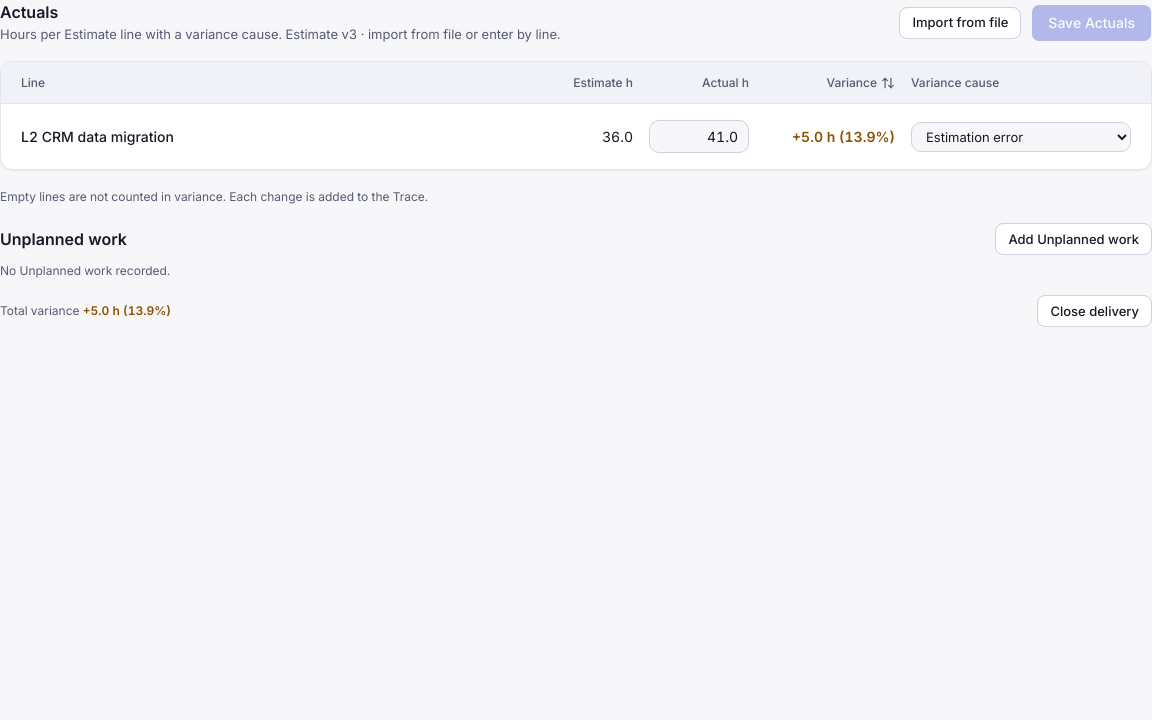
Test: ActualsSection › Close delivery once every line has a final Actual
Click the button "Close delivery": (1095,311) [1037,295,1151,327]
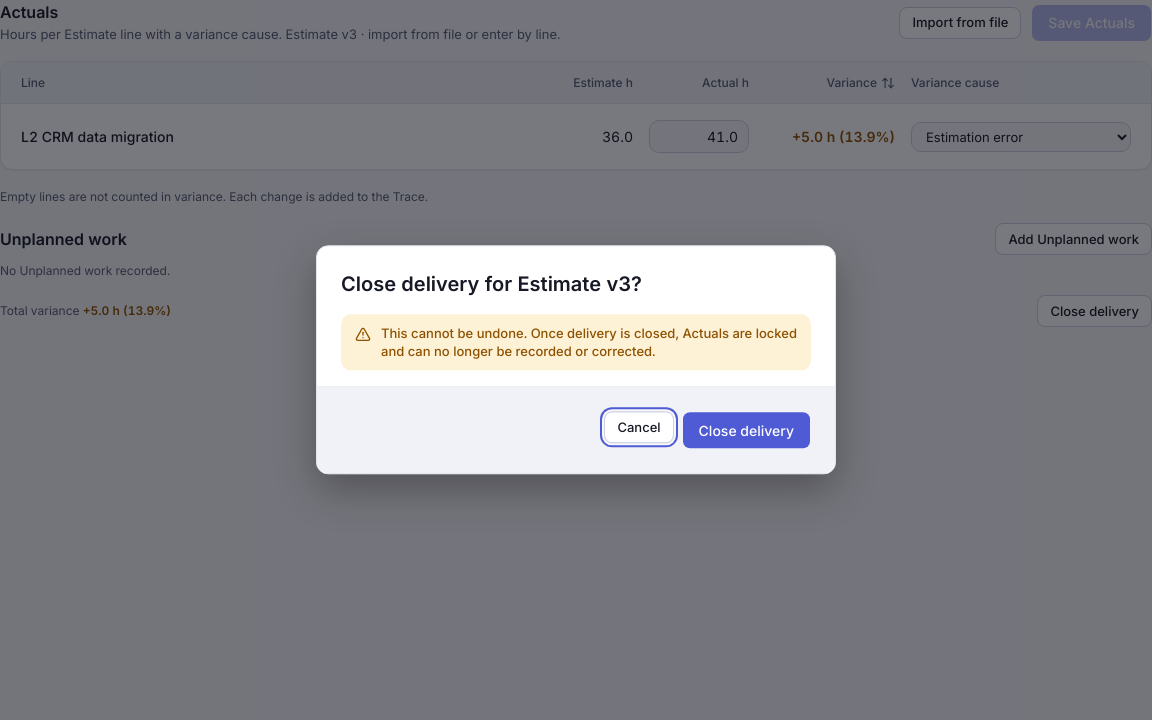
expect the text "Actuals are locked" is shown: met, box [381,325,797,360]
Click the button "Close delivery": (746,431) [682,412,811,450]
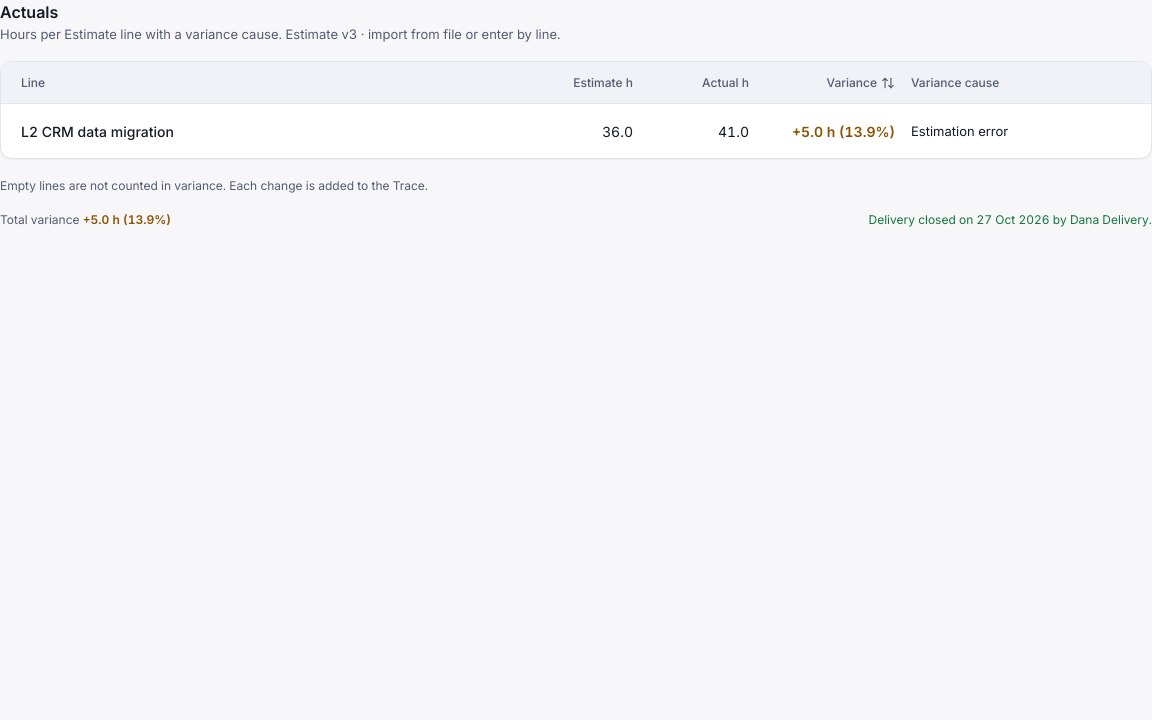
expect the text "Delivery closed on 27 Oct 2026 by Dana Delivery." is shown: met, box [868,212,1151,228]
